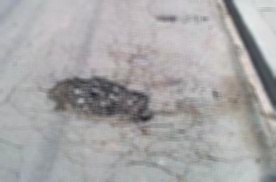pothole: (45, 75, 155, 126)
